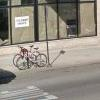Bicycle: (9, 37, 50, 77)
